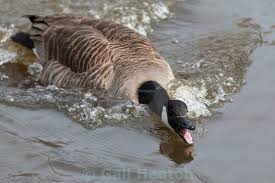goose: (14, 7, 197, 148)
